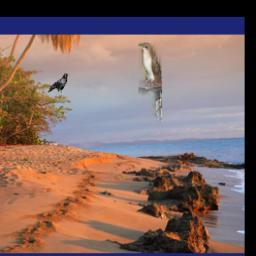Crow: (49, 72, 70, 96)
Cuckoo: (139, 44, 163, 124)
